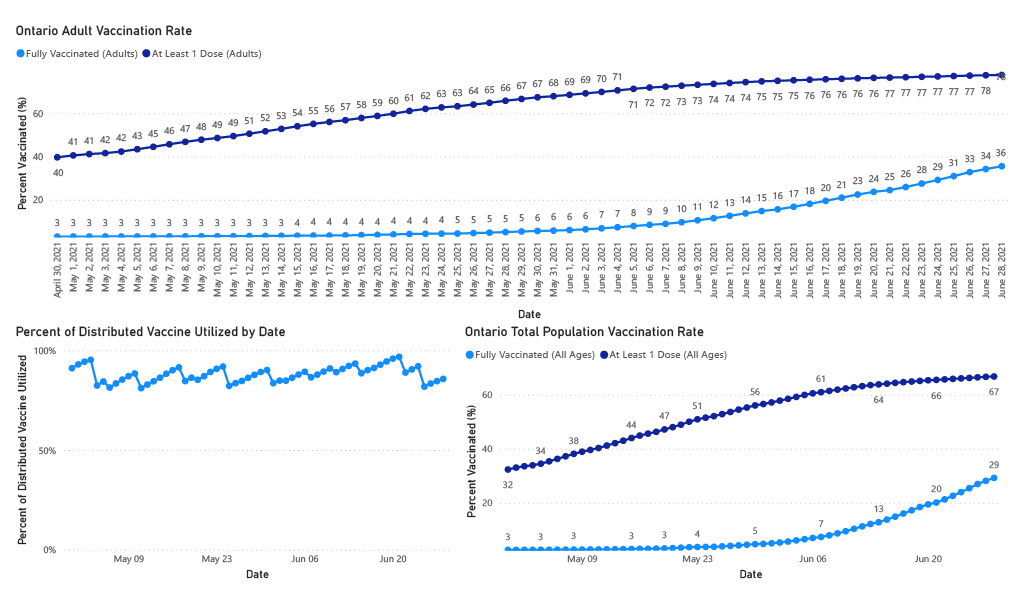

Layout of this report page (visuals, bound fields, positions):
{"tool":"powerbi","page":{"name":"Ontario Vaccination Rates","canvas":[1280,720],"ordinal":1},"visuals":[{"type":"lineChart","title":"Ontario Adult Vaccination Rate","fields":{"Y":["Sum(df.full_adults)","Sum(df.atleast1_adults)"],"Category":["df.Date"]},"box":[0,0,1279.7,385.5],"z":0},{"type":"lineChart","fields":{"Category":["df.Date"],"Y":["df.Measure"]},"box":[0,385.5,575.2,334.5],"z":1000},{"type":"lineChart","title":"Ontario Total Population Vaccination Rate","fields":{"Y":["Sum(df.full_all_ages)","Sum(df.atleast1_all_ages)"],"Category":["df.Date"]},"box":[575.2,385.5,704.5,334.5],"z":2000}]}

Visuals, with their boxes on the page's 1280x720 design canvas (x1, y1, x2, y2). These are canvas units, not pixel positions in the 1024x608 screenshot, which may show the page scaled, cropped or inside an application window:
"Ontario Adult Vaccination Rate" lineChart: (left=0, top=0, right=1280, bottom=386)
lineChart - df.Date x df.Measure: (left=0, top=386, right=575, bottom=720)
"Ontario Total Population Vaccination Rate" lineChart: (left=575, top=386, right=1280, bottom=720)
